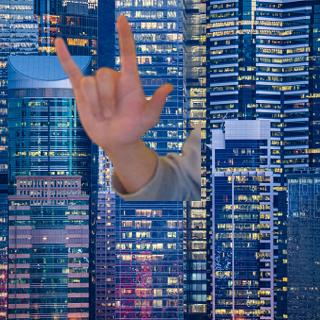ILY: (50, 14, 175, 152)
